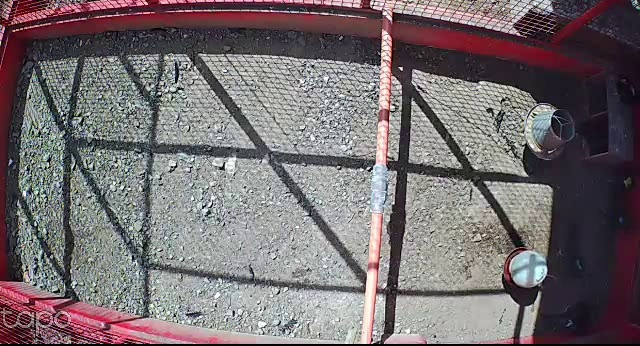Chicken: (552, 223, 584, 281), (604, 163, 640, 212), (598, 204, 640, 243)
Drinker: (497, 244, 551, 292)
Feeder: (523, 102, 580, 161)
Rooster: (541, 295, 607, 337)
Saddle_Color_Yellow: (623, 178, 634, 188)
